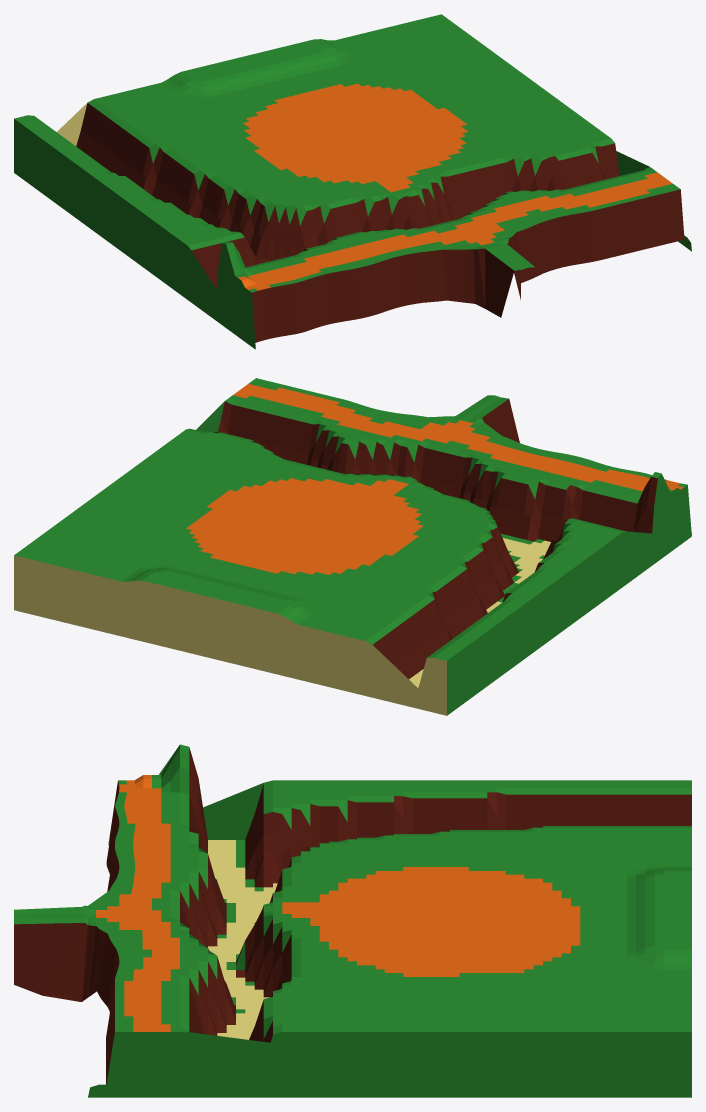
The model's file is CenterPointv4.fbx.
The picture shows the model from 3 angles, top to bottom: view 1: azimuth 30°, elevation 25°; view 2: azimuth 150°, elevation 25°; view 3: azimuth 270°, elevation 25°; orthographic projection. The views are drawn at different scales.
Parts seen in each view (by area): view 1: CenterPointv2; view 2: CenterPointv2; view 3: CenterPointv2.
Part boxes in pixels (x1,y1,x2,y2): CenterPointv2: [14, 14, 691, 349]; CenterPointv2: [14, 378, 691, 715]; CenterPointv2: [14, 744, 691, 1097].
Bounding box in the file's own units: 20013 × 4006 × 22762.
